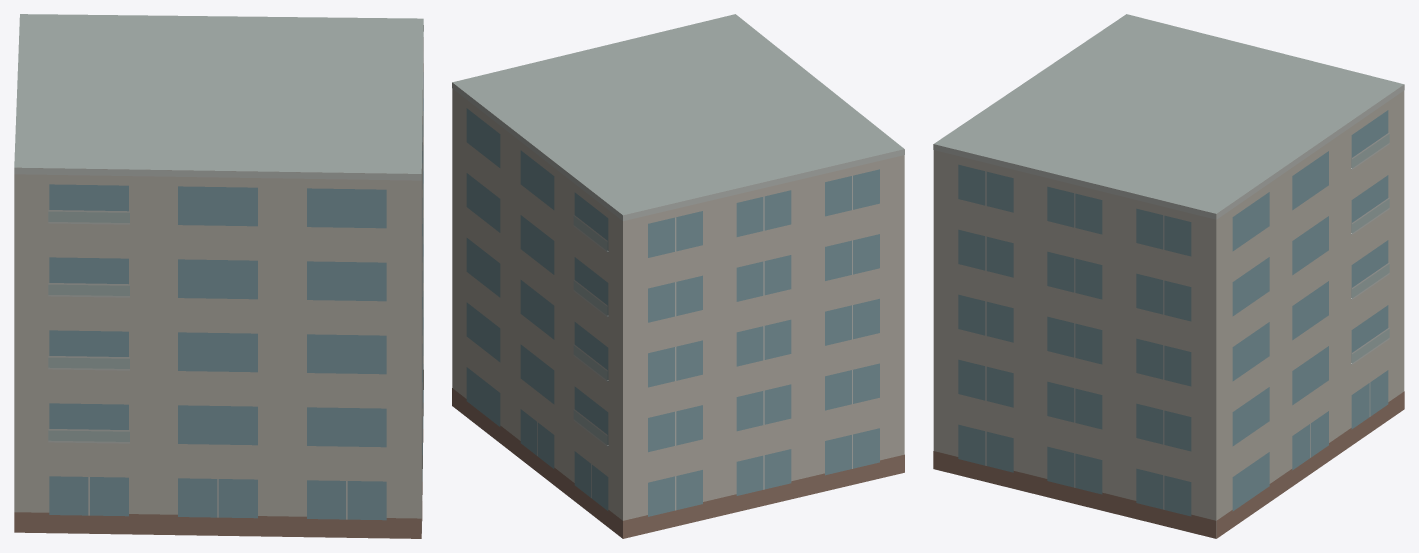
The model's file is survey-upis-32666788.glb.
3 renders of one model, left to right at view 1: azimuth 30°, elevation 25°; view 2: azimuth 150°, elevation 25°; view 3: azimuth 270°, elevation 25°, orthographic. The views are drawn at different scales.
Parts seen in each view (by area): view 1: survey-upis-32666788.tmp; view 2: survey-upis-32666788.tmp; view 3: survey-upis-32666788.tmp.
Boxes of the visible parts, <box> form: survey-upis-32666788.tmp: <box>14,14,423,538</box>; survey-upis-32666788.tmp: <box>452,14,904,538</box>; survey-upis-32666788.tmp: <box>933,14,1404,538</box>.
Size of the model in its own units: 17.69 by 13.4 by 17.61.
